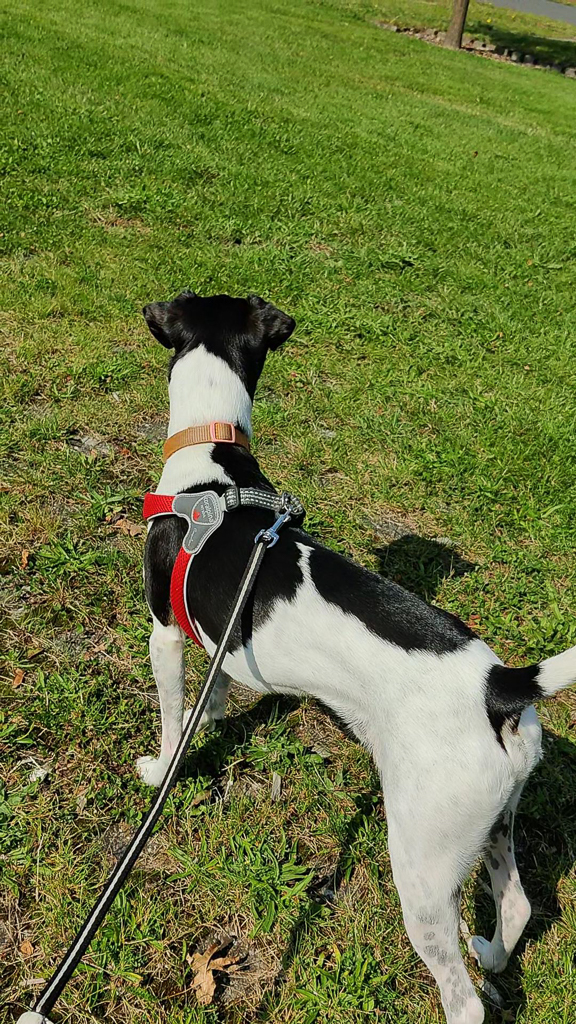Dog: (128, 286, 576, 1024)
